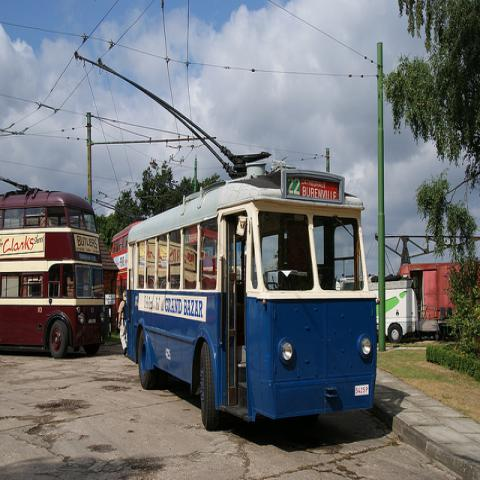bus: (125, 162, 374, 429), (0, 190, 107, 360), (111, 220, 144, 311)
truck: (396, 261, 455, 336), (383, 274, 422, 343)
